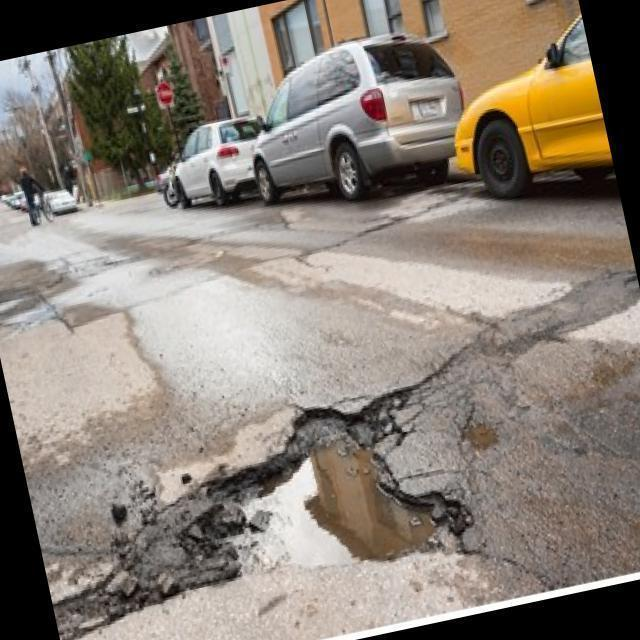pothole: (167, 371, 485, 614)
